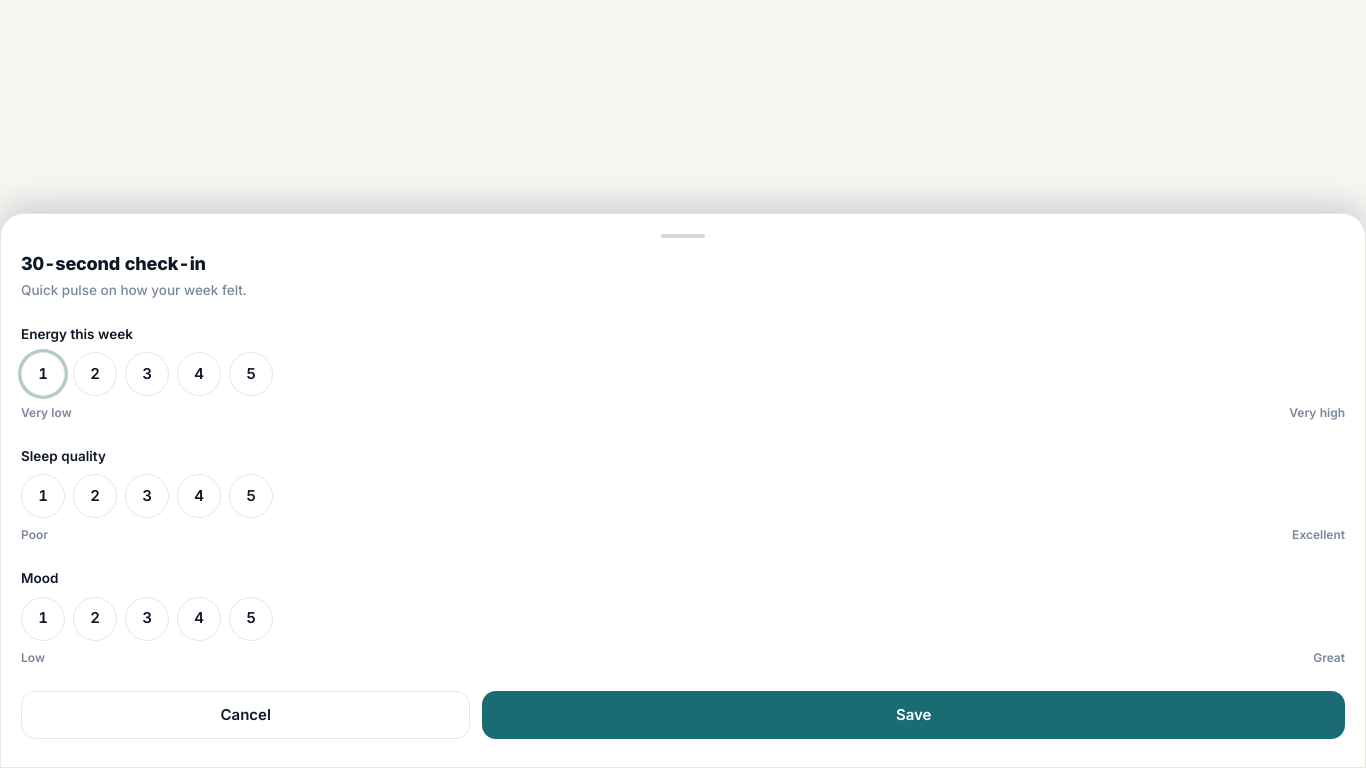
Test: WeeklyCheckInSheet › shows an inline error and keeps the sheet open on API failure
Click the button "3" below "Energy this week".
click(147, 374)  # box [125,352,169,396]
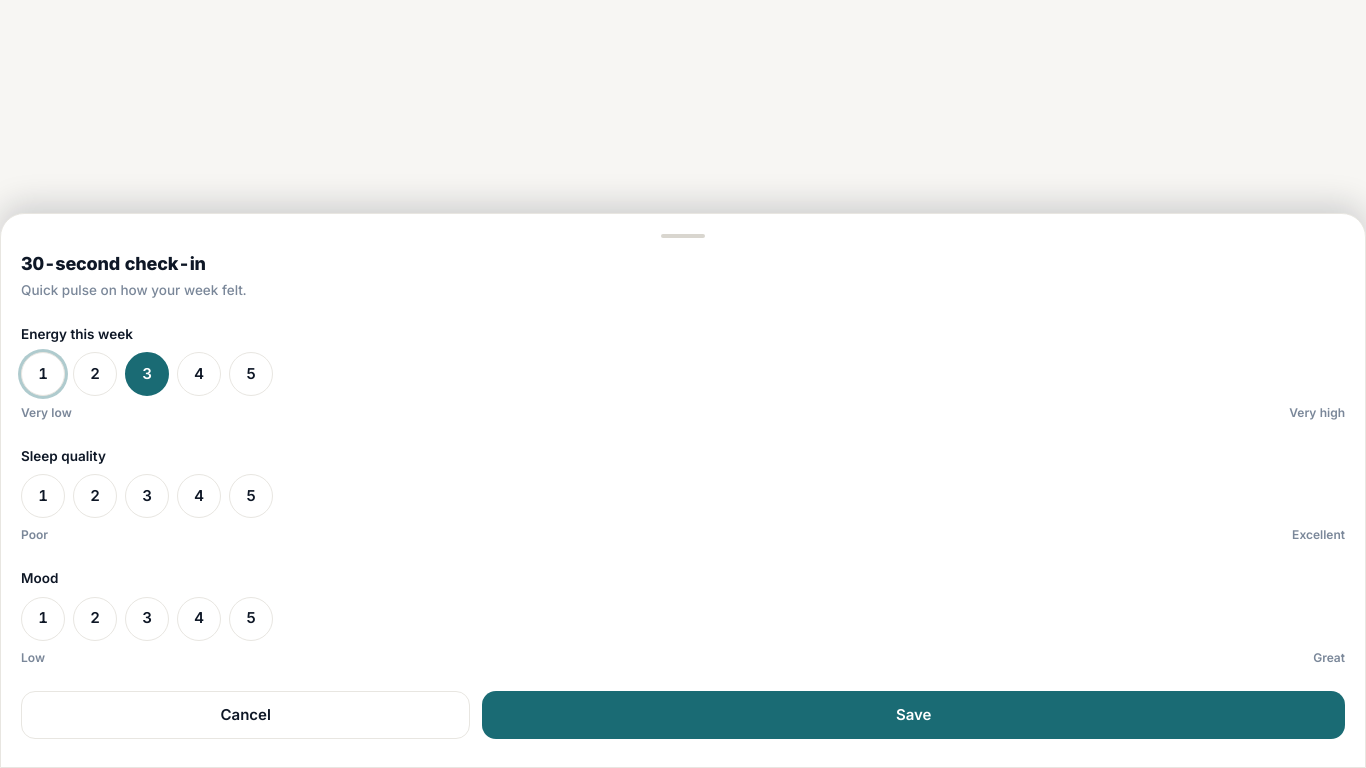
Click the button "3" below "Sleep quality".
click(147, 496)  # box [125,474,169,518]
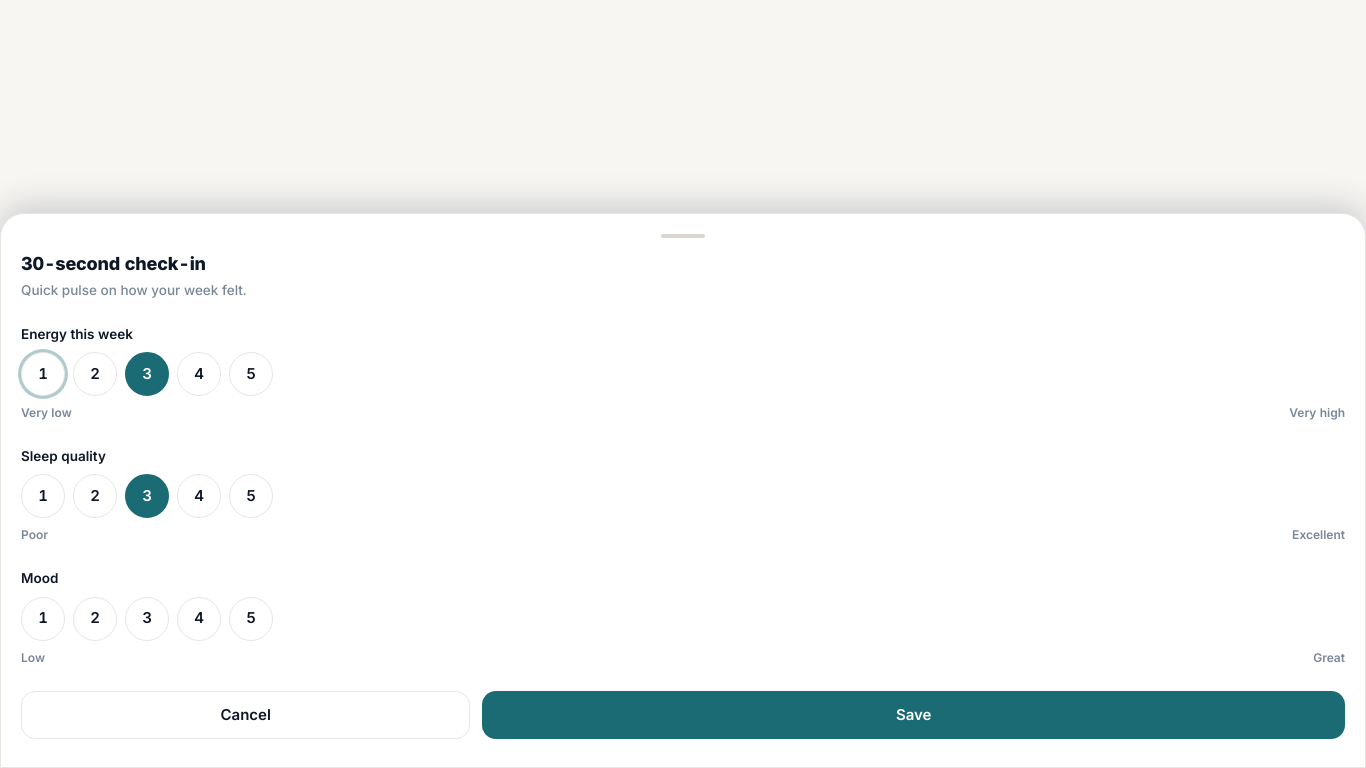
Click the button "3" below "Mood".
click(147, 618)  # box [125,596,169,640]
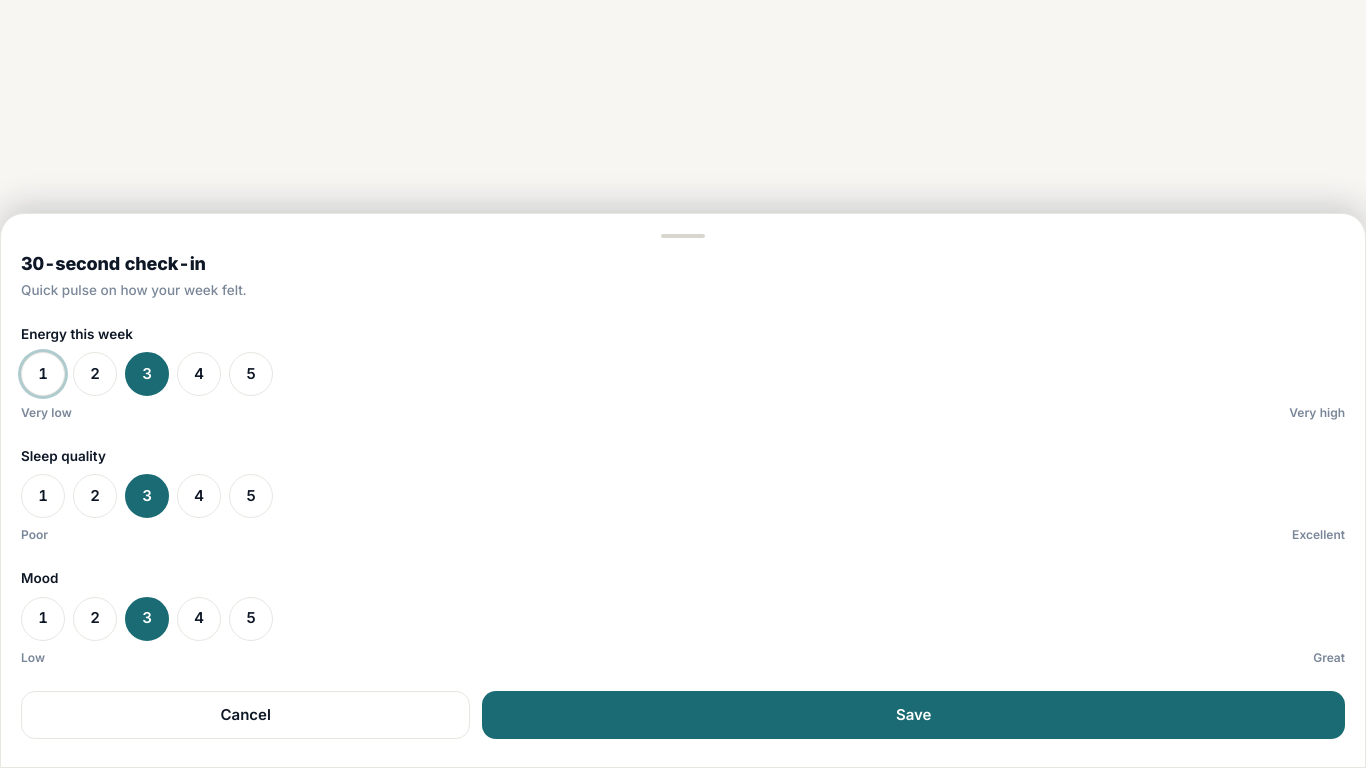
Click the button "Save".
click(914, 715)  # box [482,690,1345,739]
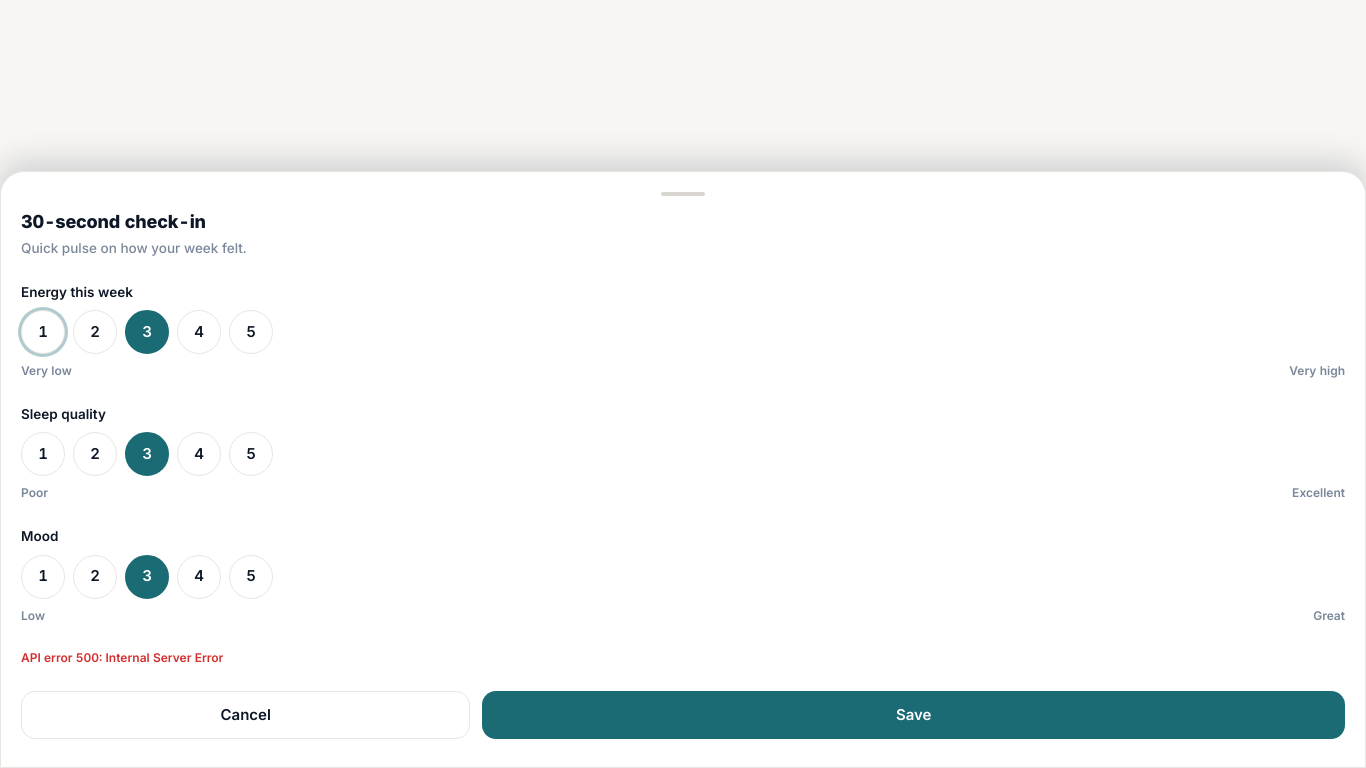
expect the message "API error 500: Internal Server Error" is shown: met, box [21,650,223,664]
